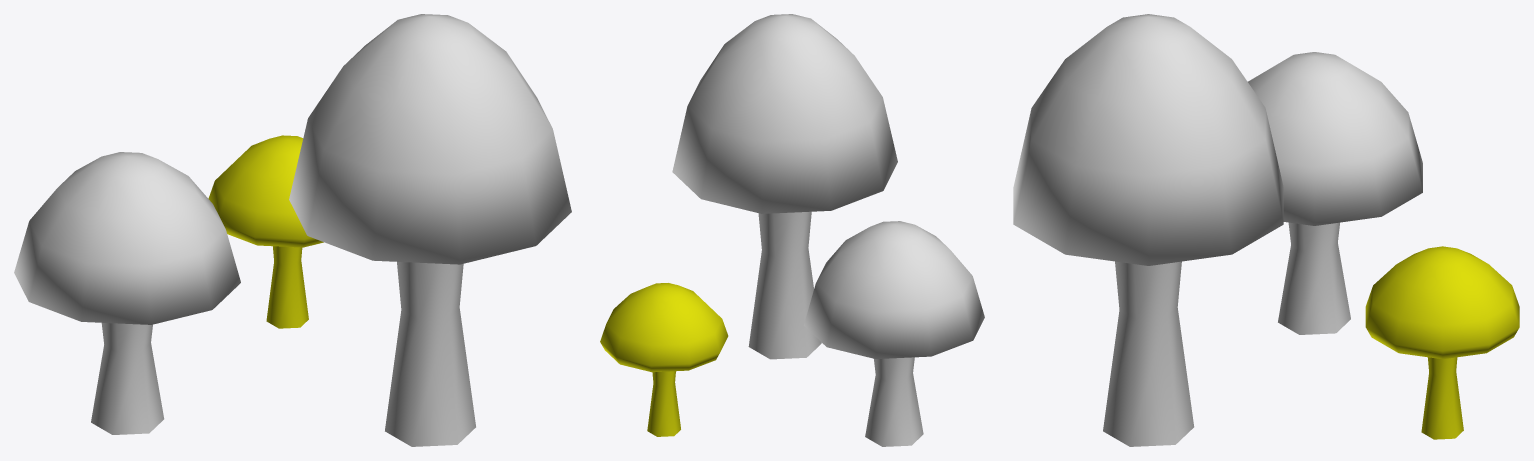
Rendered from chpater02_mushroom_01.fbx.
3 views of the same model, side by side, from view 1: azimuth 30°, elevation 25°; view 2: azimuth 150°, elevation 25°; view 3: azimuth 270°, elevation 25° (orthographic). The views are drawn at different scales.
Parts seen in each view (by area): view 1: chpater02_mushroom_01; view 2: chpater02_mushroom_01; view 3: chpater02_mushroom_01.
Part boxes in pixels (bbox=[...]): chpater02_mushroom_01: bbox=[14, 14, 571, 446]; chpater02_mushroom_01: bbox=[600, 14, 984, 446]; chpater02_mushroom_01: bbox=[1013, 14, 1519, 446].
Size of the model in its own units: 41.87 by 37.34 by 41.57.
